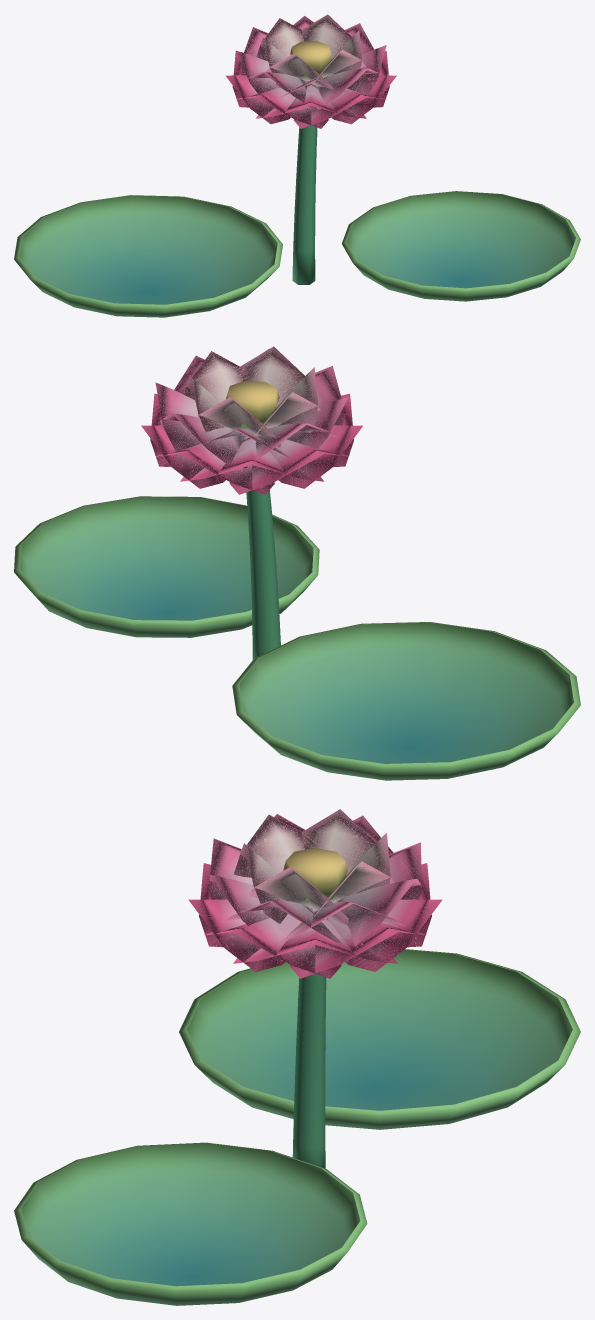
The model's file is verdant_flower_lotus.glb.
The picture shows the model from 3 angles, top to bottom: view 1: azimuth 30°, elevation 25°; view 2: azimuth 150°, elevation 25°; view 3: azimuth 270°, elevation 25°; orthographic projection. The views are drawn at different scales.
Parts seen in each view (by area): view 1: verdant_flower_lotus; view 2: verdant_flower_lotus; view 3: verdant_flower_lotus.
Boxes of the visible parts, left/top/right/bottom form: verdant_flower_lotus: left=14, top=14, right=580, bottom=317; verdant_flower_lotus: left=14, top=346, right=580, bottom=780; verdant_flower_lotus: left=14, top=809, right=580, bottom=1305.
Size of the model in its own units: 1.36 by 0.6726 by 0.9589.
